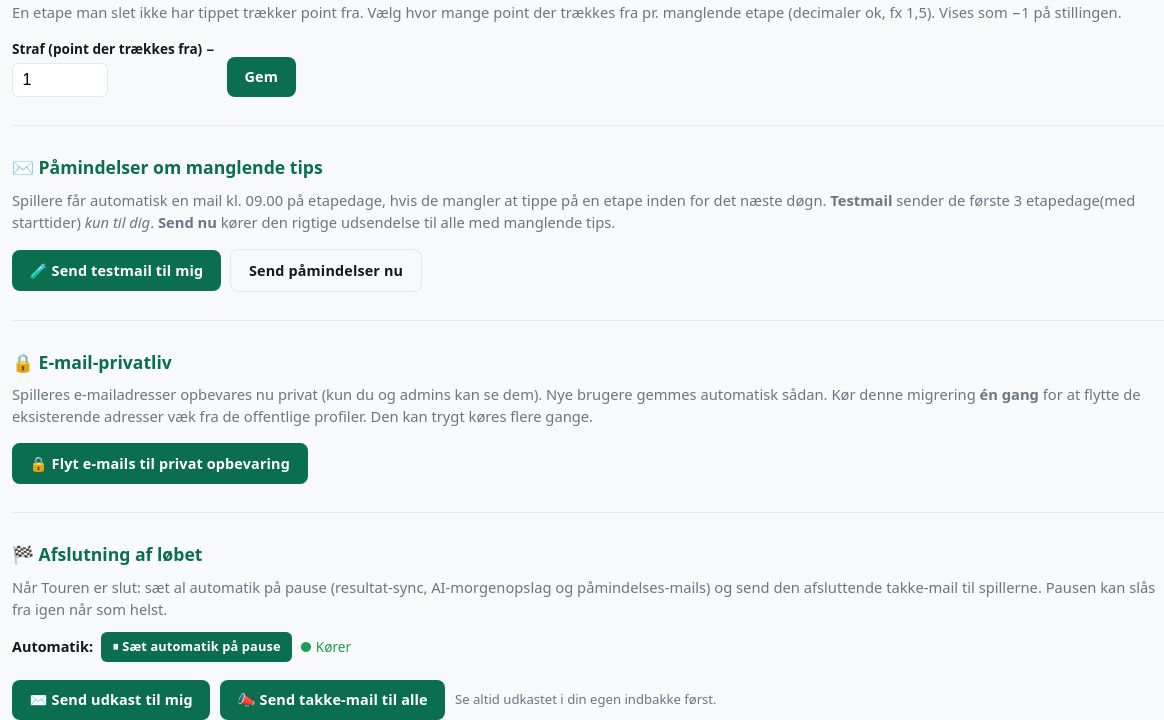
SettingsTab — 🏁 Afslutning af løbet › send-til-alle kræver DOBBELT bekræftelse (dryRun:false)
The width and height of the screenshot is (1164, 720).
(page scrolled)
Click the button with test id "thankyou-all". click: x=333, y=700
box: [220,680,445,719]
(page scrolled)
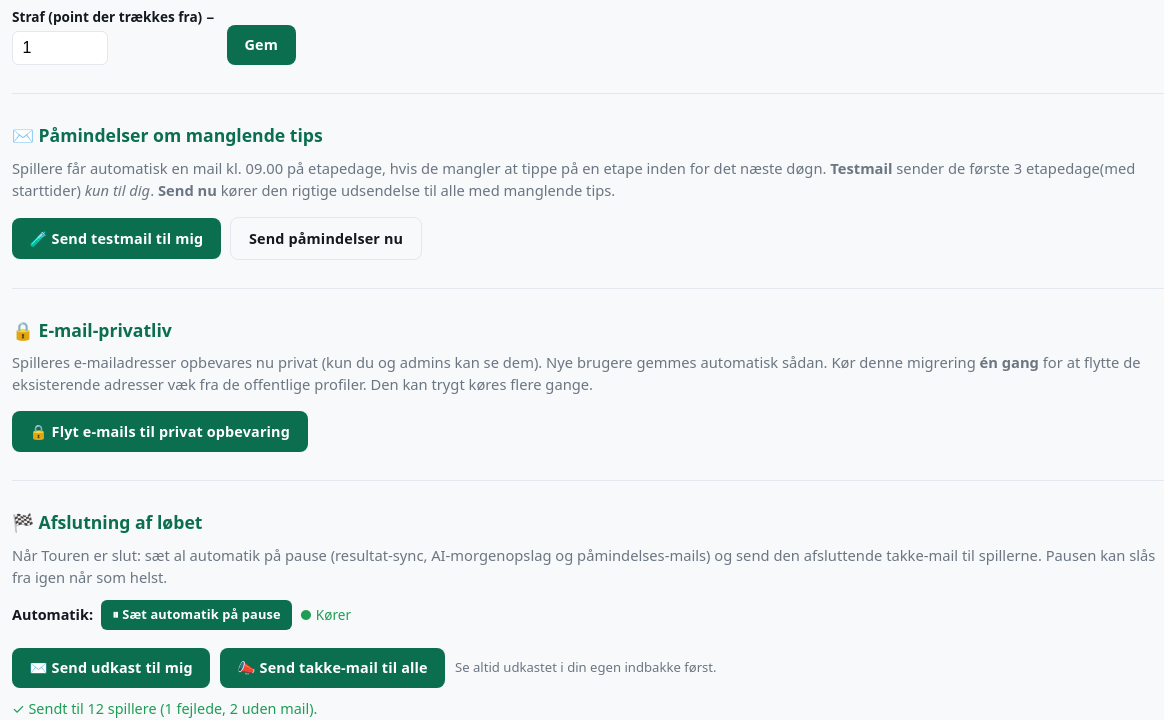
Now the text "✓ Sendt til 12 spillere (1 fejlede, 2 uden mail)." is shown, box [12,699,317,718]
